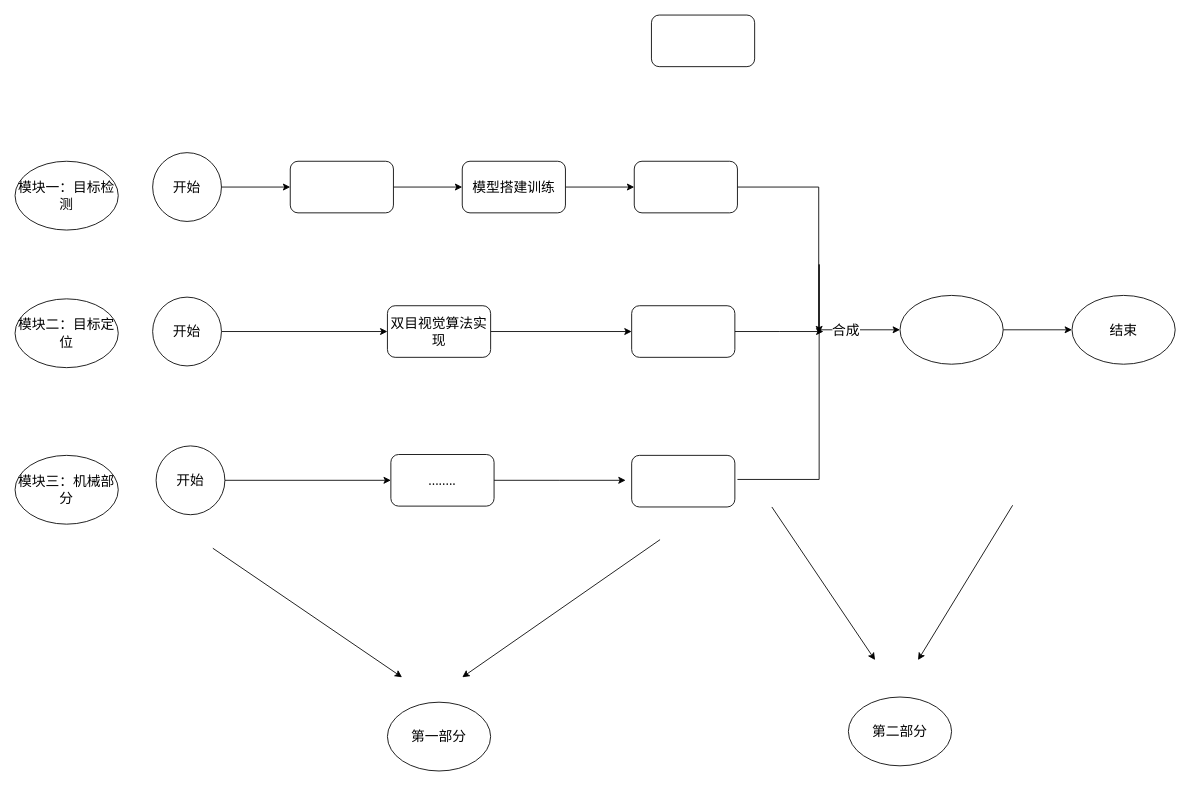
Image size: 1190x786. Some labels were removed from this diagram. Here are the shapes that lost their labels. From the top down, the centre of each, then its label:
At point (703, 40): "捡豆机器实现".
At point (341, 186): "样本数据准备".
At point (685, 186): "检测识豆模型实现".
At point (683, 331): "距离检测实现".
At point (951, 329): "模型总实现".
At point (683, 481): "机械实现".
